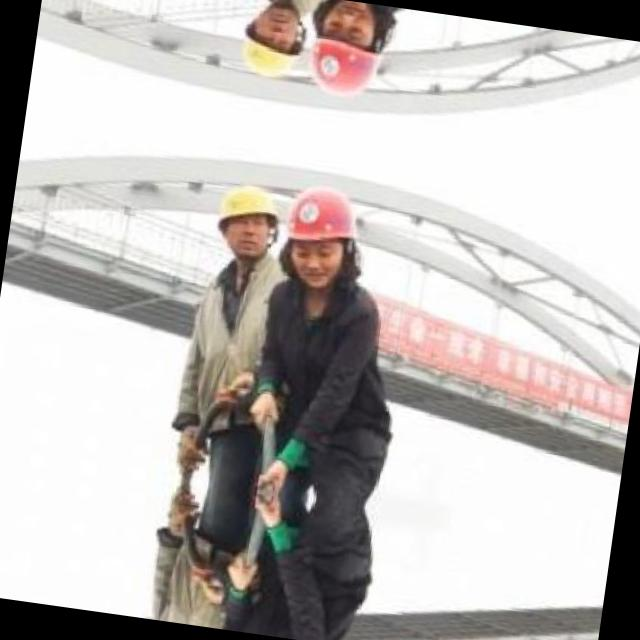helmet: (282, 176, 368, 288), (306, 0, 393, 106), (206, 173, 282, 266), (231, 0, 307, 86)
